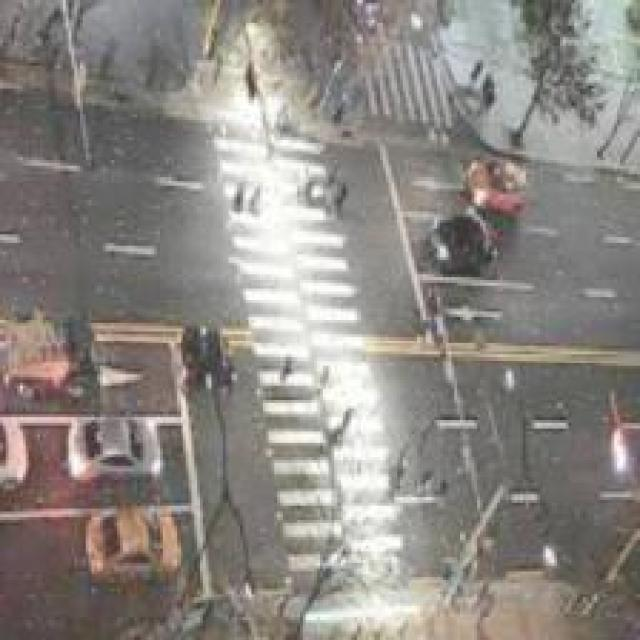walk-crossing: (218, 138, 401, 601), (363, 47, 452, 108)
